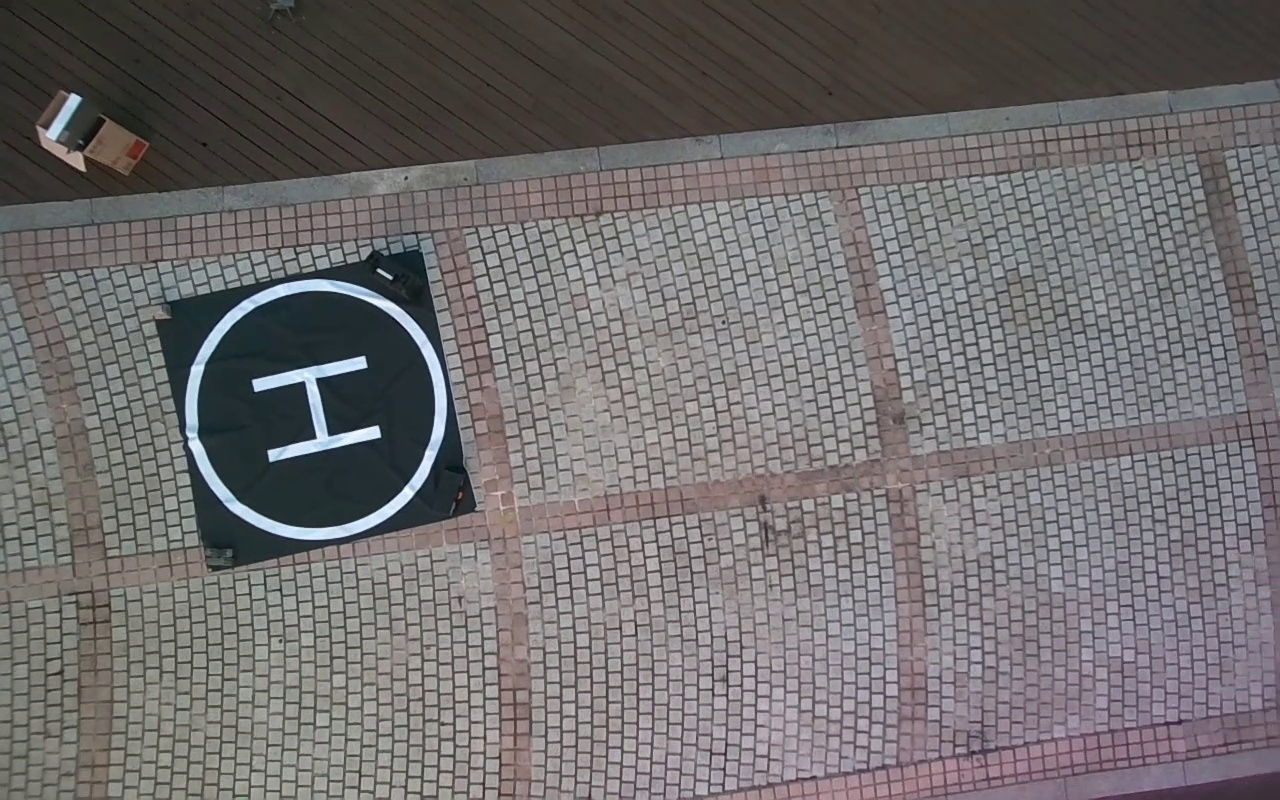H: (250, 353, 381, 466)
heliport: (182, 278, 446, 540)
